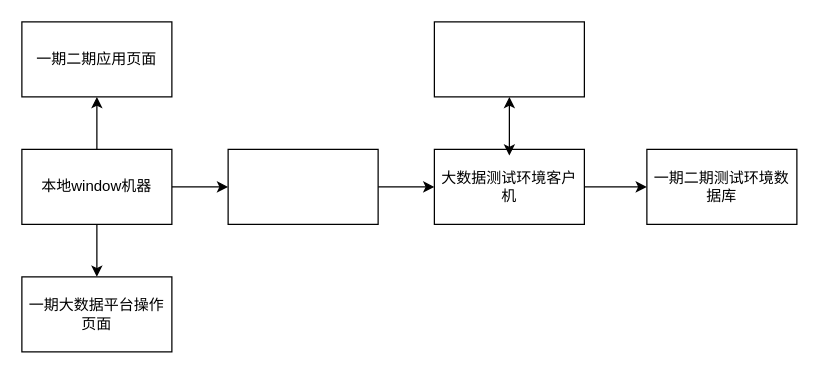
This 819x374 diagram has some shape labels left out. Here are the shapes that lost their labels. From the top down, the centre of each, then its label:
the point at 508,59: 大数据测试环境
the point at 302,186: 中间linux跳板机
